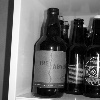beer: (34, 7, 68, 100)
